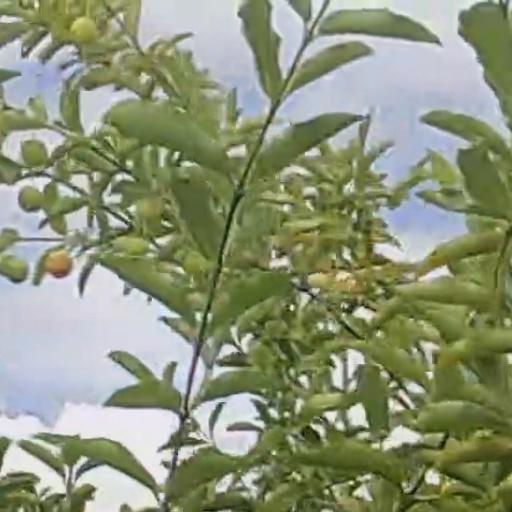acerola: (23, 142, 49, 168), (47, 249, 70, 278), (71, 18, 97, 43), (19, 187, 42, 213)
